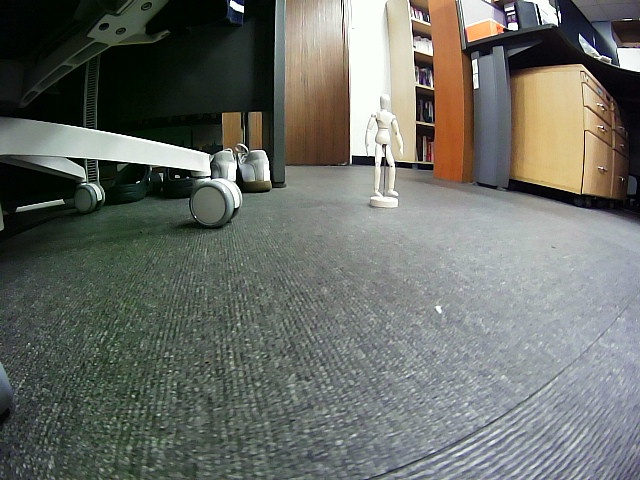person: (365, 93, 404, 197)
